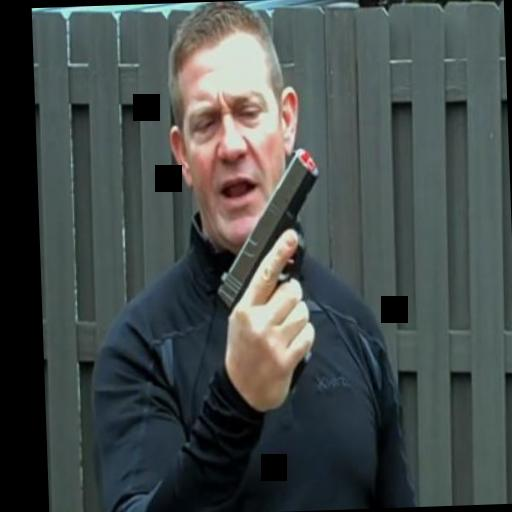Handgun: (208, 142, 327, 362)
